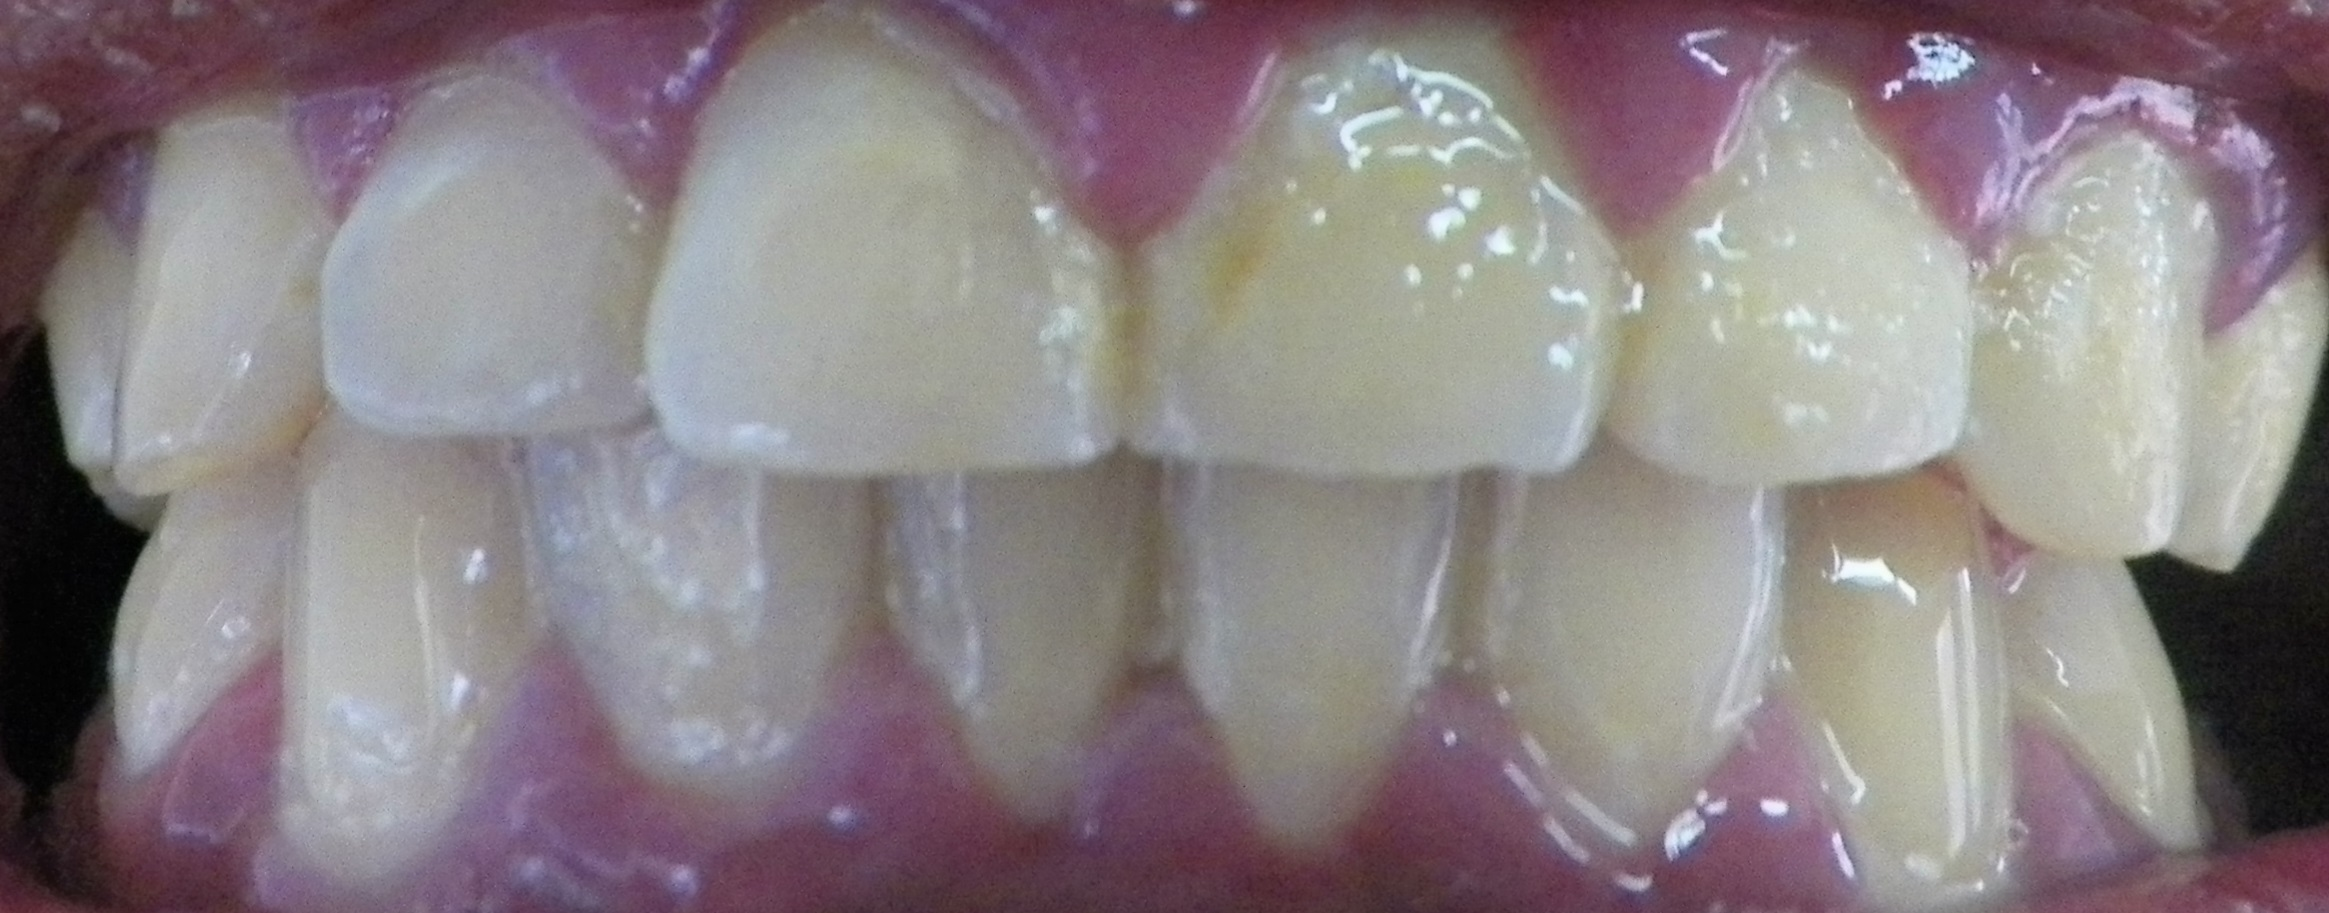boca: (64, 16, 2284, 889)
